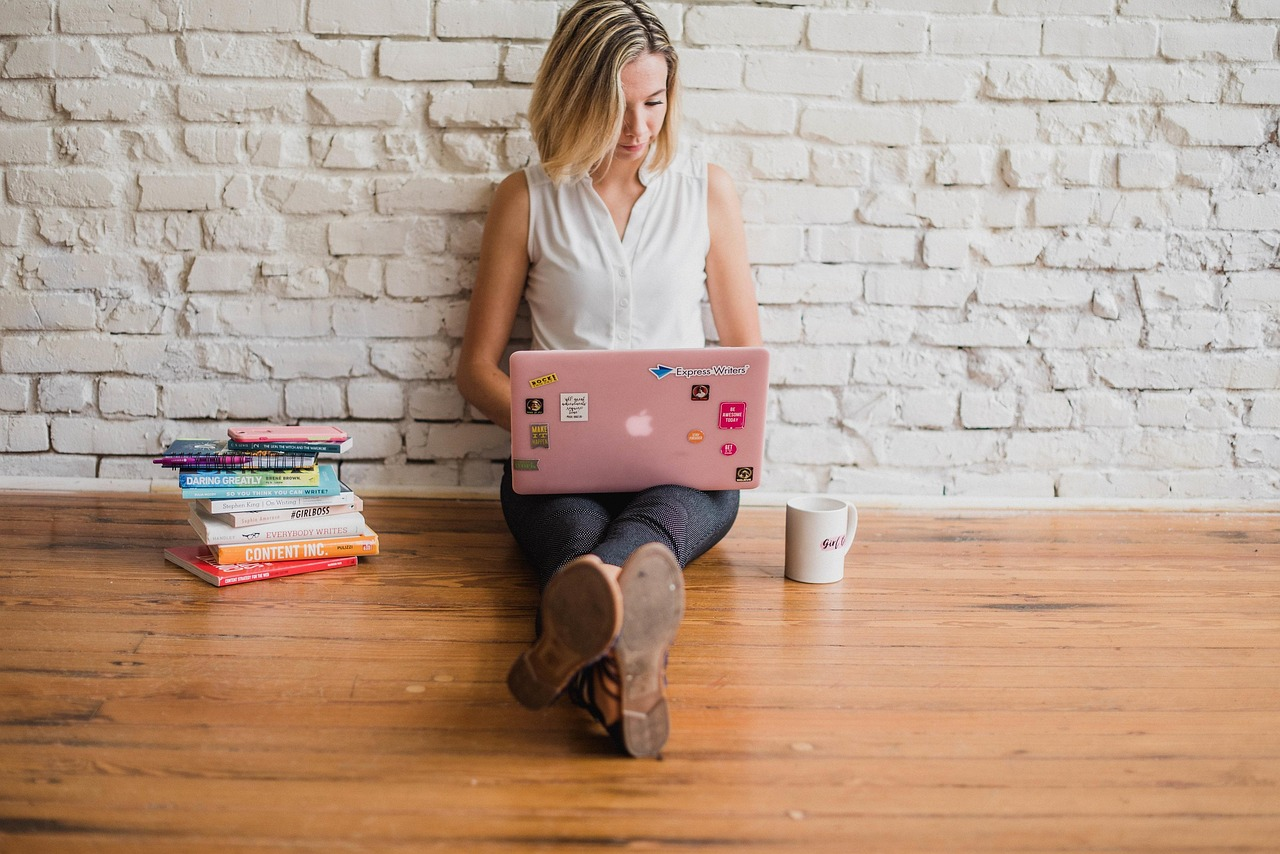mug: (777, 490, 881, 633)
